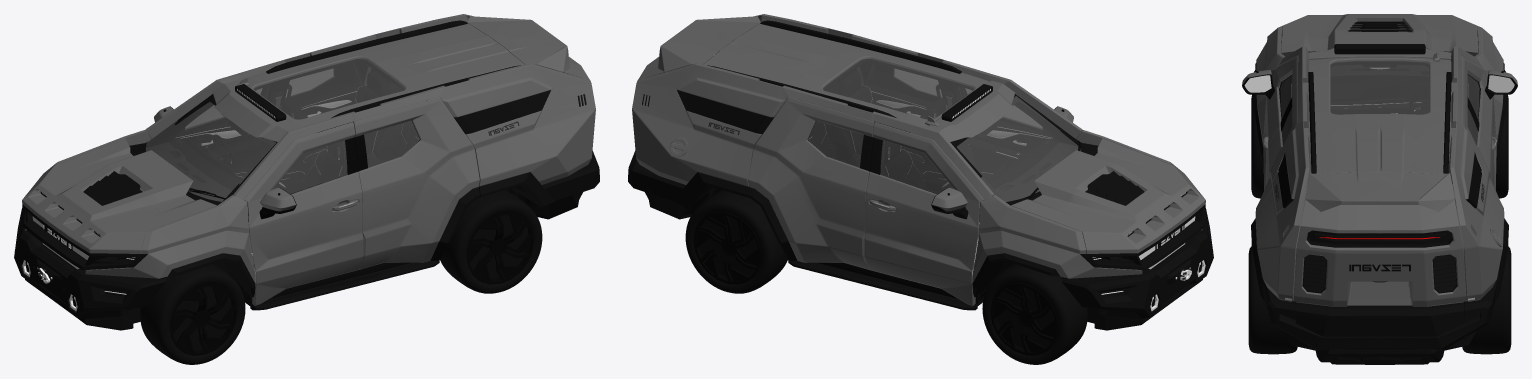
Rendered from vehicle-model-downloaded-1.glb.
3 views of the same model, side by side, from view 1: azimuth 30°, elevation 25°; view 2: azimuth 150°, elevation 25°; view 3: azimuth 270°, elevation 25° (orthographic). The views are drawn at different scales.
Parts seen in each view (by area): view 1: Object_13, Object_15, Object_41, Object_14, Object_28, Object_48, Object_27, Object_49, Object_24, Object_30, Object_32, Object_51 (+9 smaller); view 2: Object_14, Object_15, Object_41, Object_13, Object_28, Object_48, Object_27, Object_24, Object_30, Object_50, Object_32, Object_49 (+9 smaller); view 3: Object_13, Object_15, Object_26, Object_28, Object_14, Object_41, Object_48, Object_24, Object_27, Object_32, Object_9, Object_11 (+5 smaller).
Boxes of the visible parts, <box> form: Object_13: <box>213,16,589,305</box>; Object_15: <box>25,14,595,285</box>; Object_41: <box>146,57,419,201</box>; Object_14: <box>22,106,216,253</box>; Object_28: <box>14,157,599,330</box>; Object_48: <box>140,190,542,364</box>; Object_27: <box>22,20,585,323</box>; Object_49: <box>170,212,534,355</box>; Object_24: <box>146,59,404,192</box>; Object_30: <box>129,64,439,310</box>; Object_32: <box>147,89,550,308</box>; Object_51: <box>173,215,528,350</box>; Object_14: <box>748,97,1205,305</box>; Object_15: <box>632,14,1202,285</box>; Object_41: <box>808,57,1080,201</box>; Object_13: <box>638,16,1073,141</box>; Object_28: <box>628,157,1213,330</box>; Object_48: <box>685,190,1087,364</box>; Object_27: <box>642,20,1205,323</box>; Object_24: <box>823,59,1081,192</box>; Object_30: <box>788,64,1098,310</box>; Object_50: <box>990,283,1057,355</box>; Object_32: <box>677,89,1081,308</box>; Object_49: <box>693,212,760,284</box>; Object_13: <box>1242,48,1466,306</box>; Object_15: <box>1255,26,1504,301</box>; Object_26: <box>1295,71,1517,336</box>; Object_28: <box>1251,21,1508,364</box>; Object_14: <box>1281,14,1517,213</box>; Object_41: <box>1280,59,1479,145</box>; Object_48: <box>1248,94,1511,354</box>; Object_24: <box>1282,61,1477,142</box>; Object_27: <box>1281,30,1478,173</box>; Object_32: <box>1278,98,1481,208</box>; Object_9: <box>1360,85,1428,113</box>; Object_11: <box>1244,68,1514,300</box>.
Size of what is drawn, in the model's own units: 24.39 by 8.78 by 10.33.
25 materials, 5 textured.
